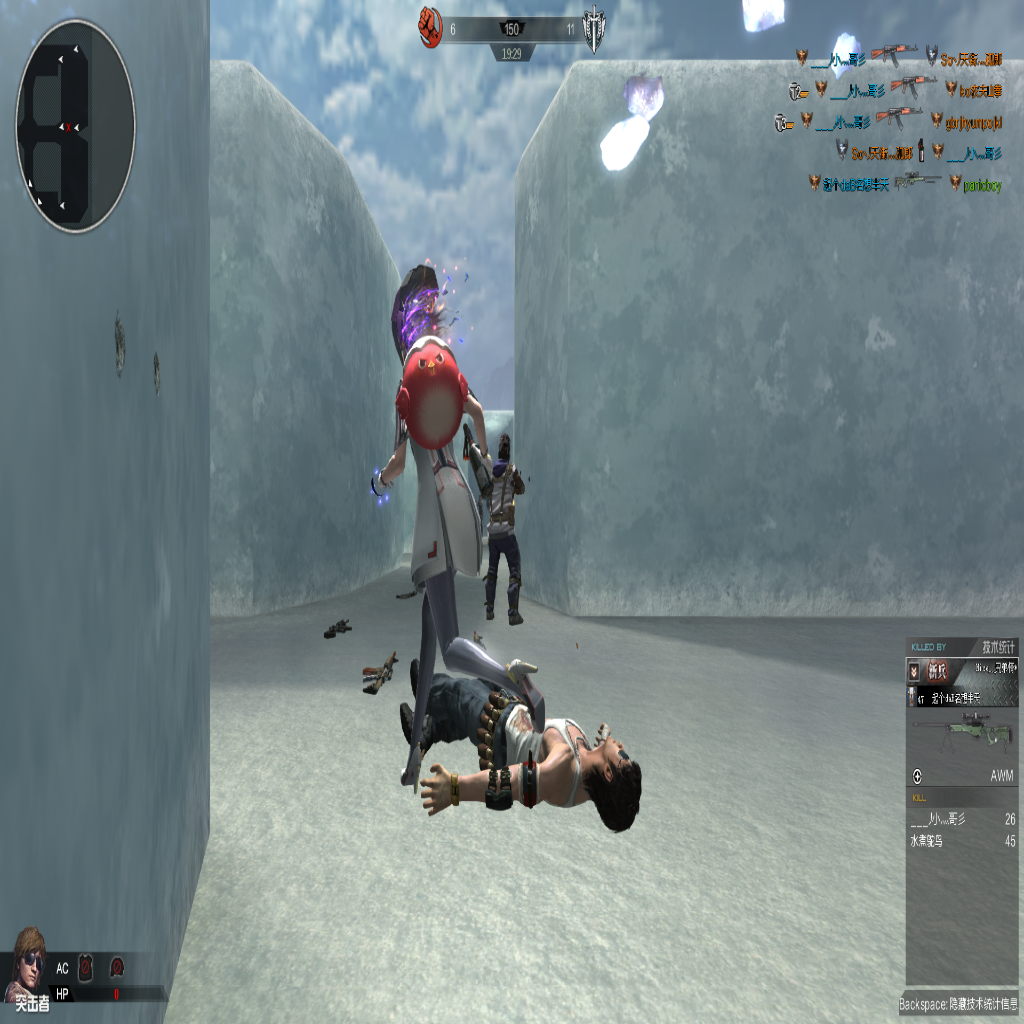tt: (478, 432, 526, 626)
